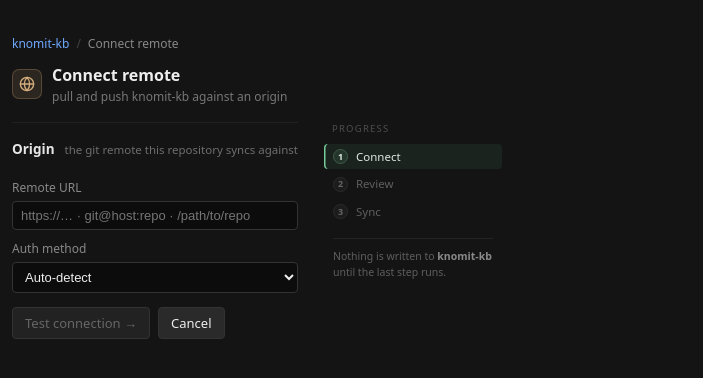
Test case: RemoteConnectWizard › warns but does not block on SSH URL + None
The width and height of the screenshot is (703, 378).
Note: No warning for a local path under None.
Type "/srv/kb" into the field with test id "wizard-url" at (155, 216), box [12, 201, 298, 230]
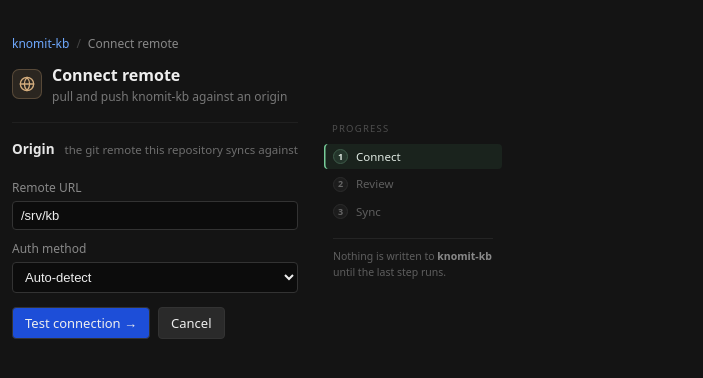
Select "None (anonymous)" in the dropdown at (155, 278), box [12, 262, 298, 293]
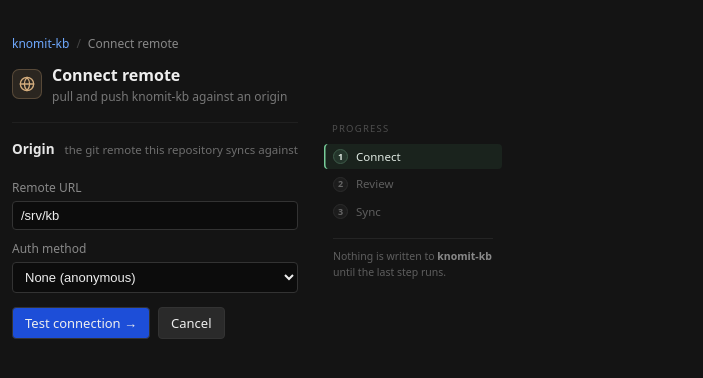
Note: SSH-style URL + None → advisory appears, Test stays enabled.
Replace the text in the field with test id "wizard-url" with "git@github.com:user/repo.git" at (155, 216), box [12, 201, 298, 230]
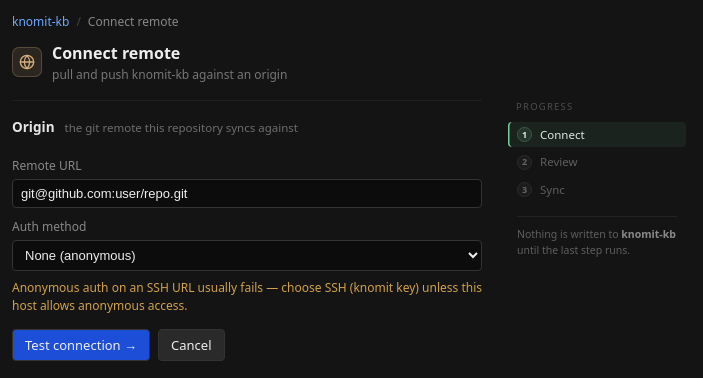
Result: the button with test id "wizard-test" is enabled at [12, 329, 150, 361]
Result: the text with test id "wizard-auth-warning" is shown at [12, 279, 482, 315]
